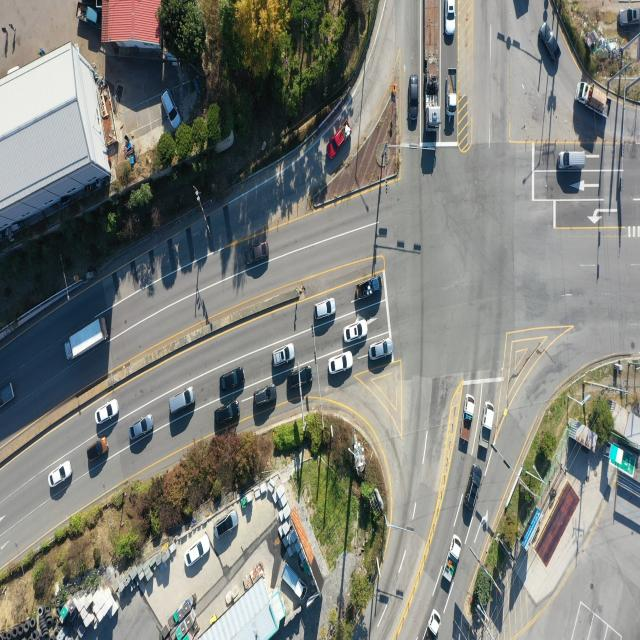car: (539, 19, 561, 64), (329, 124, 352, 162), (466, 466, 484, 512), (171, 385, 198, 413), (184, 537, 208, 568), (286, 366, 314, 392), (163, 89, 181, 129), (50, 460, 73, 488), (131, 416, 155, 441), (214, 403, 239, 427), (218, 368, 244, 391), (215, 511, 237, 538), (247, 240, 271, 264), (272, 344, 296, 368), (343, 322, 368, 345), (97, 400, 119, 426), (330, 352, 354, 375), (252, 385, 276, 407), (560, 150, 586, 170), (88, 440, 110, 463), (368, 340, 392, 361), (408, 76, 418, 122), (314, 300, 336, 320), (618, 7, 640, 26), (446, 0, 456, 35)
large_truck: (422, 0, 440, 126), (576, 81, 612, 122)
medium_truck: (66, 318, 109, 364)
small_truck: (442, 535, 461, 585), (281, 562, 307, 598), (479, 399, 496, 452), (459, 395, 475, 444), (358, 274, 382, 301), (78, 1, 100, 28), (446, 68, 456, 112), (0, 381, 16, 408), (428, 608, 442, 636)
